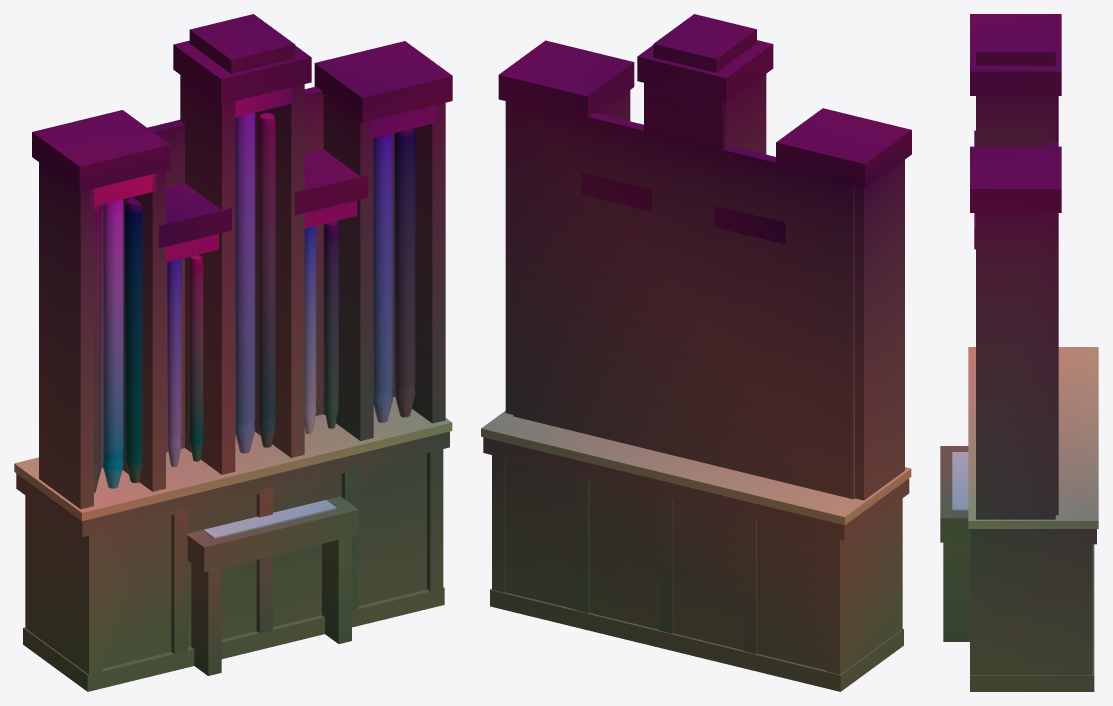
File: organ_case.glb
3 views of the same model, side by side, from view 1: azimuth 30°, elevation 25°; view 2: azimuth 150°, elevation 25°; view 3: azimuth 270°, elevation 25° (orthographic). The views are drawn at different scales.
Parts seen in each view (by area): view 1: organ_case, organ_gild, pipe7, pipe1, pipe14, pipe8, pipe13, pipe2, pipe4, pipe11, pipe5, pipe10 (+2 smaller); view 2: organ_case, organ_gild; view 3: organ_case, organ_gild, organ_keys.
Part boxes in pixels (x1,y1,x2,y2): organ_case: (16, 14, 452, 691); organ_gild: (14, 87, 452, 520); pipe7: (235, 113, 255, 453); pipe1: (102, 199, 123, 488); pipe14: (394, 128, 415, 417); pipe8: (258, 113, 275, 447); pipe13: (373, 133, 393, 422); pipe2: (125, 198, 142, 483); pipe4: (166, 259, 181, 466); pipe11: (324, 221, 338, 428); pipe5: (189, 254, 203, 461); pipe10: (304, 226, 316, 434); organ_case: (483, 14, 911, 691); organ_gild: (481, 411, 911, 525); organ_case: (940, 14, 1096, 691); organ_gild: (968, 347, 1098, 528); organ_keys: (952, 452, 968, 510).
Bounding box in the file's own units: 2.8 × 4.26 × 1.07.
